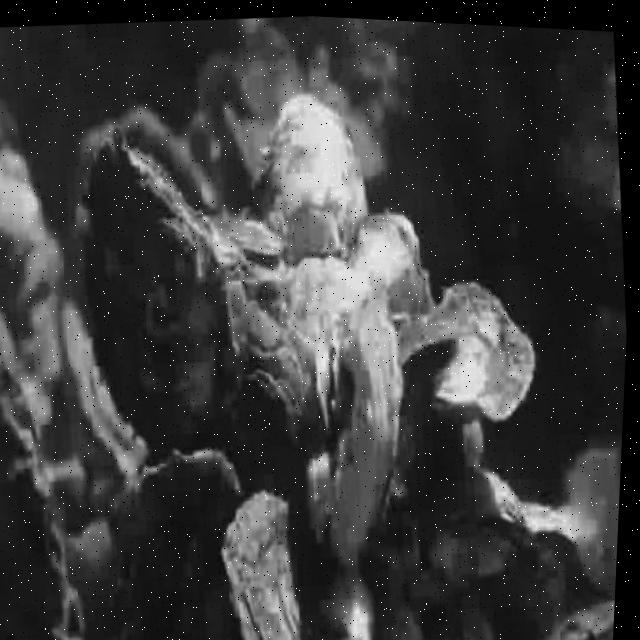Oyster-Closed: (122, 97, 228, 200), (358, 213, 440, 318), (515, 501, 605, 550), (316, 565, 373, 640), (312, 330, 348, 440), (216, 208, 290, 253), (541, 562, 573, 638)
Oyster-Indeterminate: (81, 121, 233, 443), (0, 301, 107, 640), (318, 299, 399, 573), (248, 91, 373, 263), (391, 285, 539, 425), (216, 486, 319, 640), (137, 443, 246, 585), (257, 258, 372, 371), (227, 366, 305, 498), (425, 522, 556, 596), (241, 22, 304, 120), (333, 80, 391, 179), (198, 54, 244, 128)
